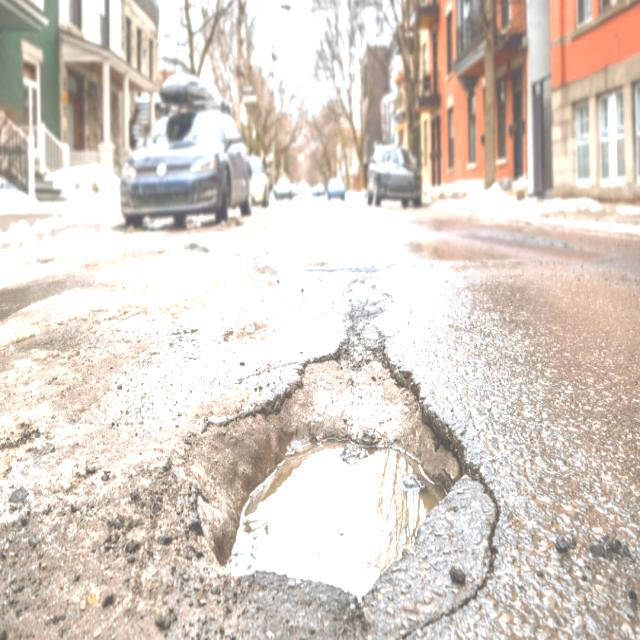Pothole: (171, 271, 507, 640)
